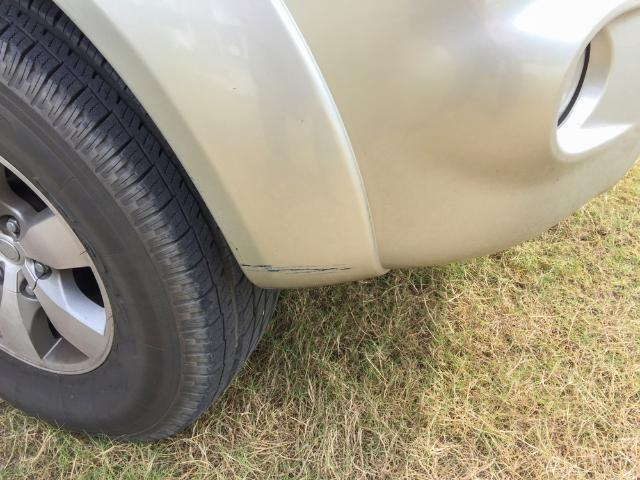scratch: (242, 263, 354, 277)
